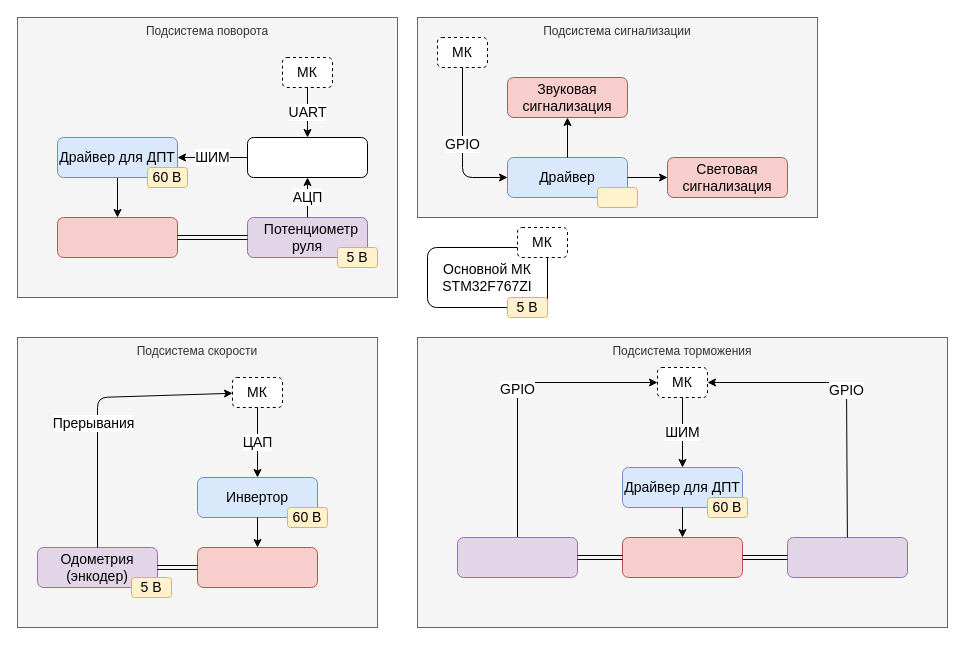
The diagram is 965 pixels wide and 645 high, and some of its shapes have lost their labels. The centre of each missing label's shape, as x and y in pixels:
12 В: [617,197]
dsPIC33EP256: [307,157]
Концевой датчик отжатия: [847,557]
Концевой датчик прижима: [517,557]
Привод поворота руля: [117,237]
Привод скорости: [257,567]
Привод тормоза: [682,557]
